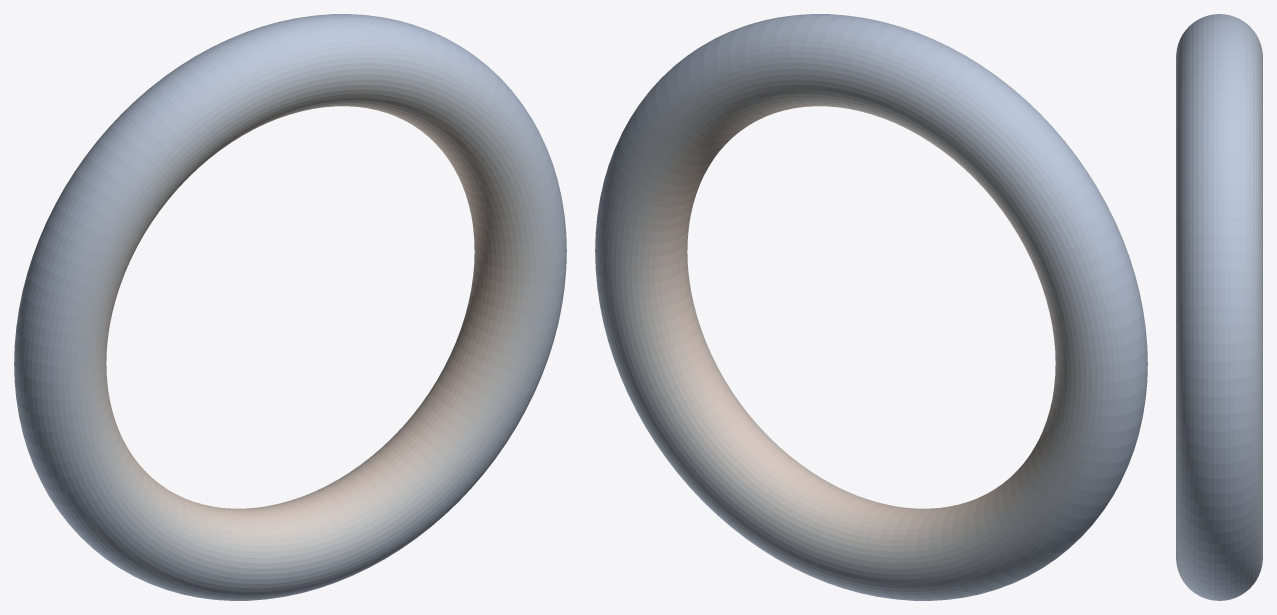
The picture shows the model from 3 angles, left to right: view 1: azimuth 30°, elevation 25°; view 2: azimuth 150°, elevation 25°; view 3: azimuth 270°, elevation 25°; orthographic projection. The views are drawn at different scales.
Parts seen in each view (by area): view 1: world; view 2: world; view 3: world.
Boxes of the visible parts, x1,y1,x2,y2 form: world: (14, 14, 566, 600); world: (595, 14, 1147, 600); world: (1176, 14, 1262, 600).
Bounding box in the file's own units: 29.73 × 29.73 × 4.39.
